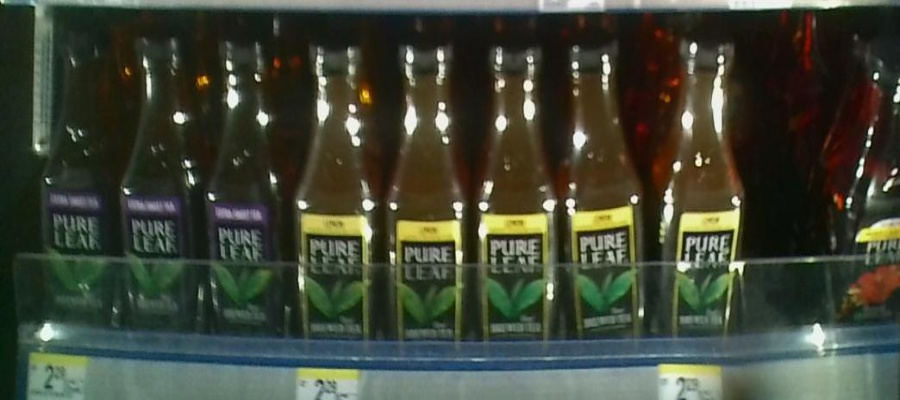bottle: (653, 20, 747, 355), (381, 32, 472, 361), (559, 32, 650, 358), (292, 26, 378, 360), (202, 29, 286, 354), (475, 36, 556, 357), (38, 35, 118, 345), (122, 31, 199, 344), (833, 45, 900, 358)
